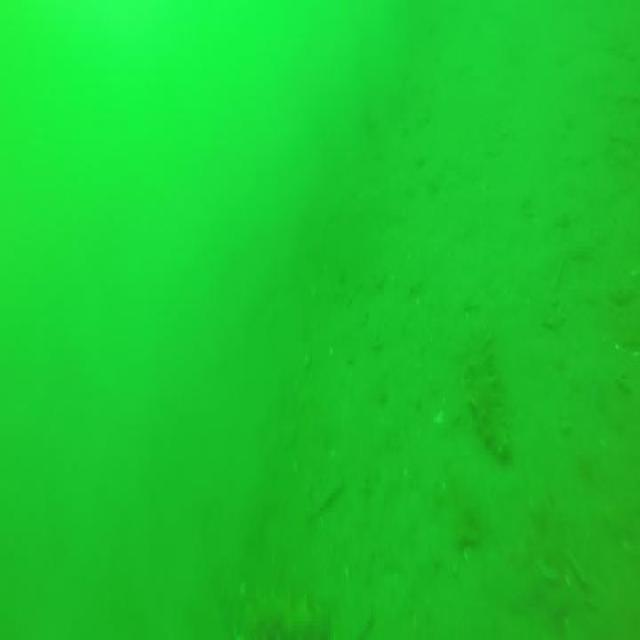holothurian: (464, 321, 516, 471), (236, 586, 330, 640)
